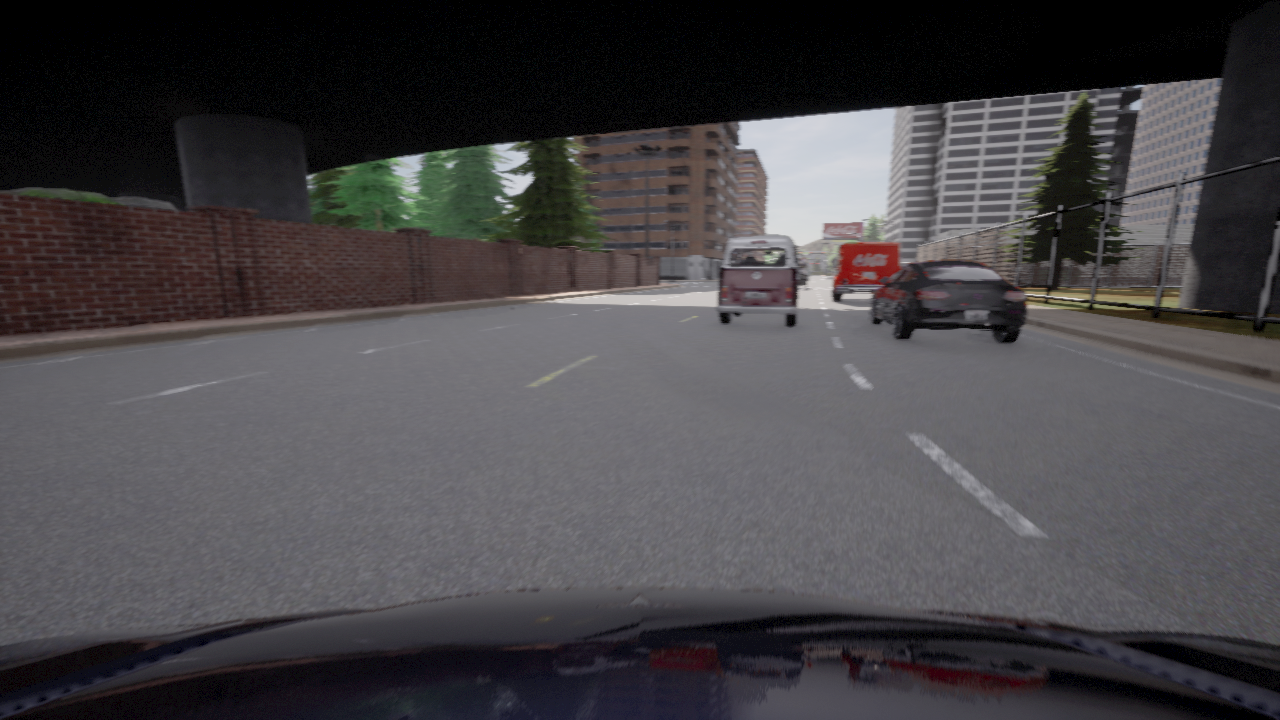cyclist: (0, 588, 1279, 719), (870, 260, 1026, 343), (717, 235, 806, 326), (832, 242, 899, 300), (798, 269, 809, 287), (900, 262, 914, 268)
